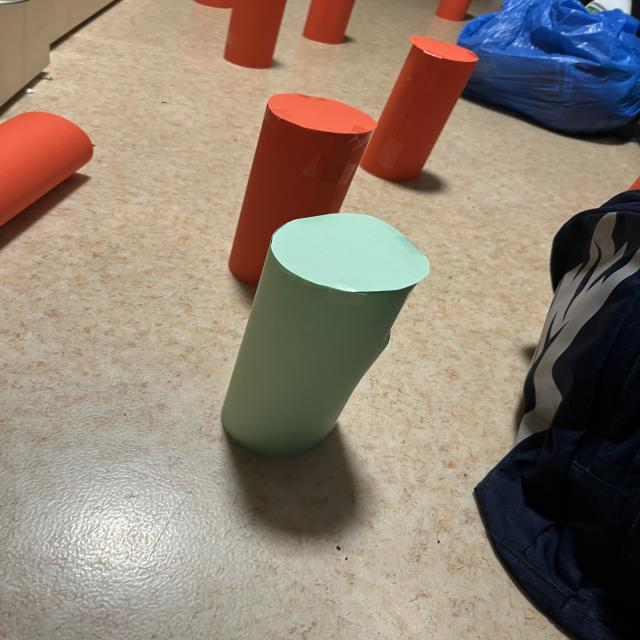meta: (221, 213, 429, 454)
przeszkoda: (229, 93, 376, 286), (360, 36, 478, 182), (0, 112, 93, 225), (224, 0, 286, 68), (303, 0, 355, 44)
